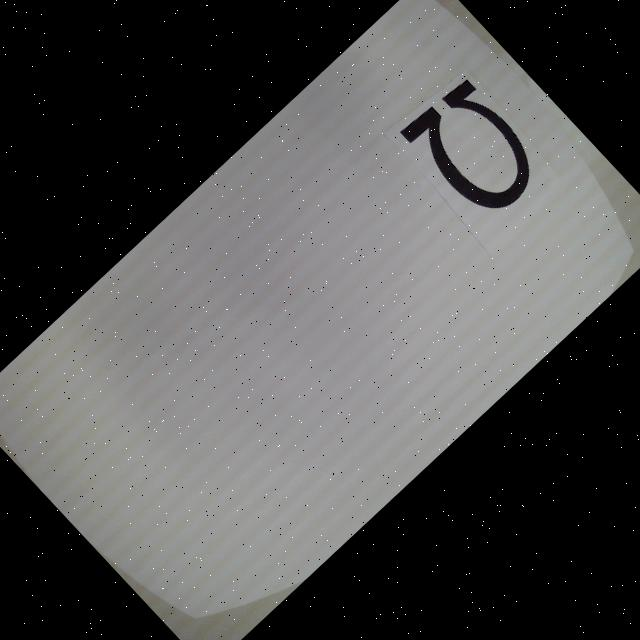OMEGA: (399, 75, 548, 226)
